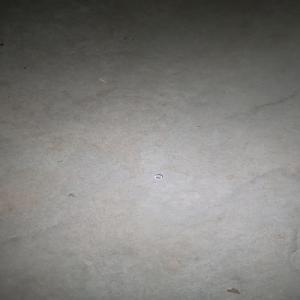Nut: (153, 175, 163, 181)
